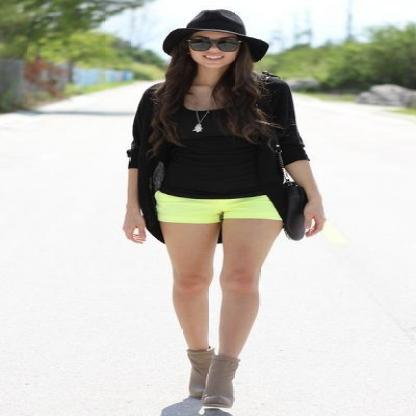bag: (261, 179, 308, 240)
hat: (164, 9, 268, 60)
jacket: (127, 82, 309, 242)
shirt: (154, 109, 283, 198)
shoe: (188, 349, 236, 415)
shorts: (155, 192, 281, 224)
sunglass: (190, 25, 245, 51)
